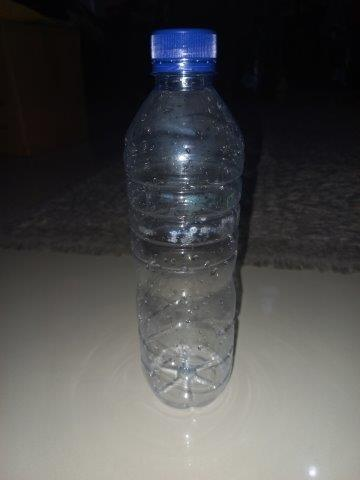botolplastik: (123, 29, 245, 408)
